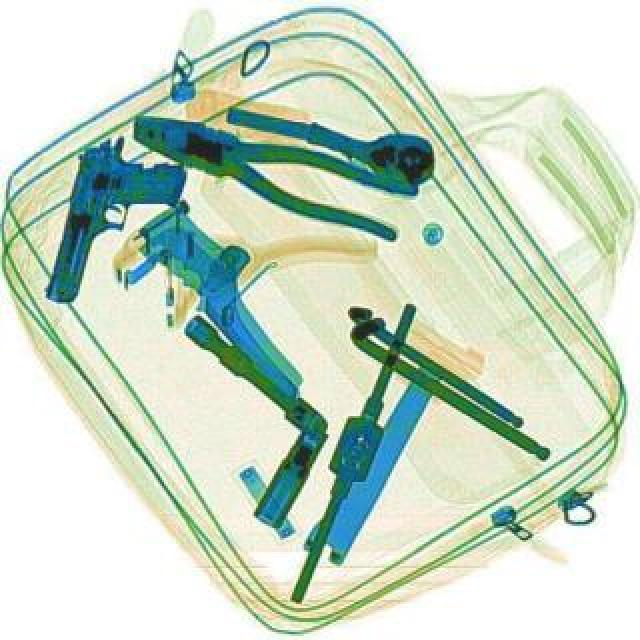gun: (42, 128, 192, 318)
wrench: (118, 98, 418, 244)
